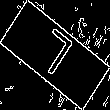L_SW: (31, 26, 79, 84)
